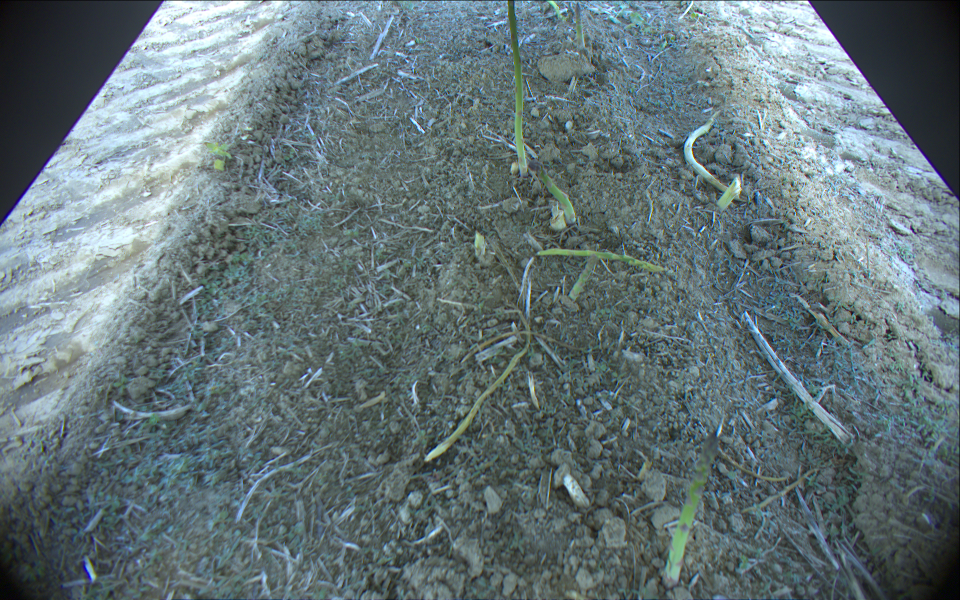aspa: (425, 300, 533, 463), (664, 426, 720, 585), (684, 114, 749, 205), (506, 1, 528, 176), (538, 250, 669, 271), (536, 161, 578, 223), (569, 255, 599, 305), (717, 179, 741, 211), (574, 3, 584, 51), (546, 1, 564, 22)
